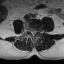CCS_normal: (32, 29, 34, 38)
LFS_severe_stenosis: (36, 28, 38, 34)
LLS_normal: (34, 28, 36, 35)
RFS_stenosis: (28, 28, 30, 34)
RLS_normal: (30, 28, 32, 36)
